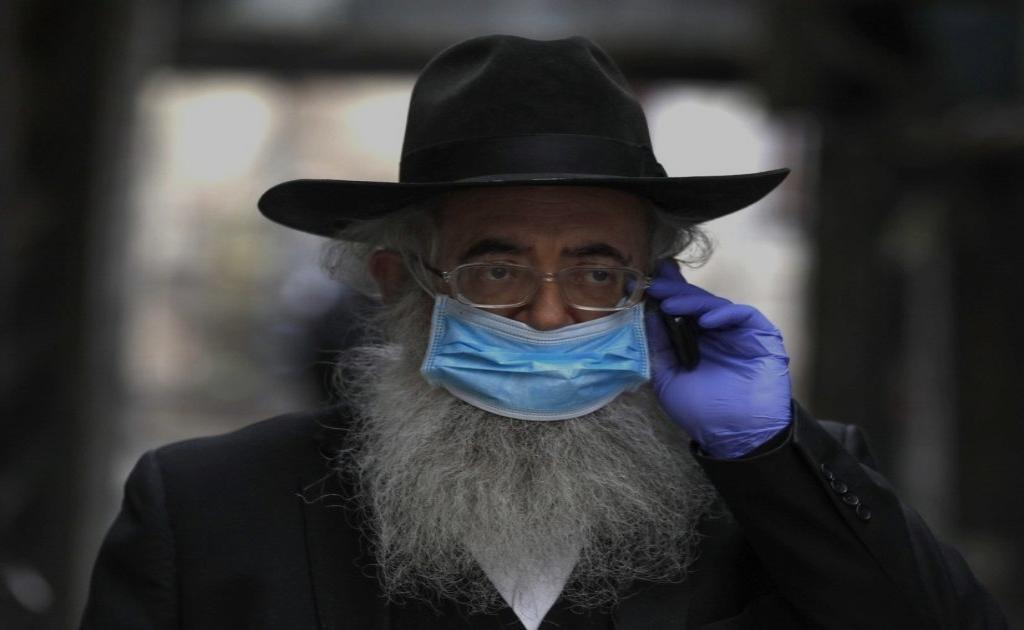mask_weared_incorrect: (373, 192, 670, 427)
